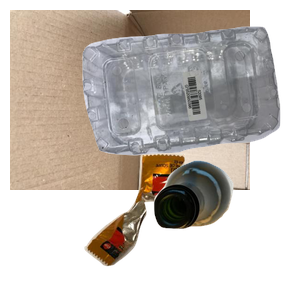cardboard: (10, 10, 250, 190)
glass: (151, 158, 300, 300)
plastic: (80, 24, 300, 172)
trash: (82, 151, 260, 300)
